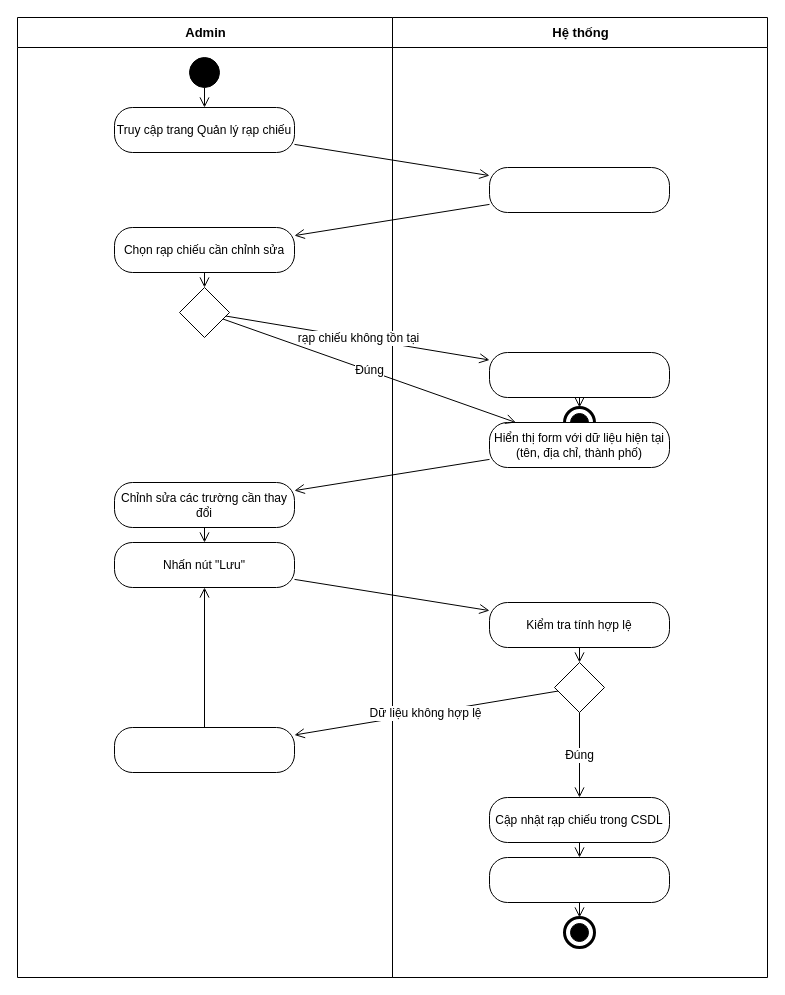
Image size: 785x995. Some labels were removed from this diagram. The box of each missing label's shape, as (x1, y1, x2, y2) in pixels:
Hiển thị danh sách rạp chiếu: (488, 166, 670, 212)
Thông báo cập nhật thành công: (488, 856, 670, 902)
Thông báo lỗi, yêu cầu nhập lại.: (114, 726, 294, 772)
Thông báo lỗi.: (488, 352, 670, 398)
